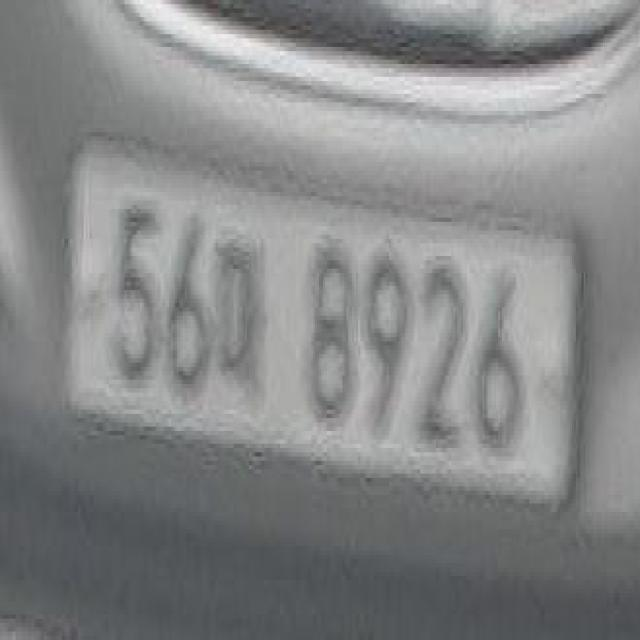illegal_plate: (68, 144, 583, 535)
